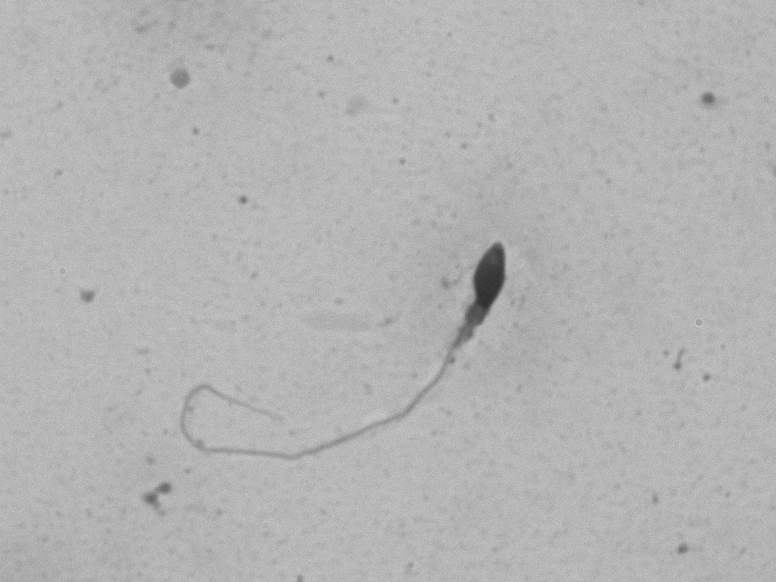Abnormal: (162, 184, 557, 491)
